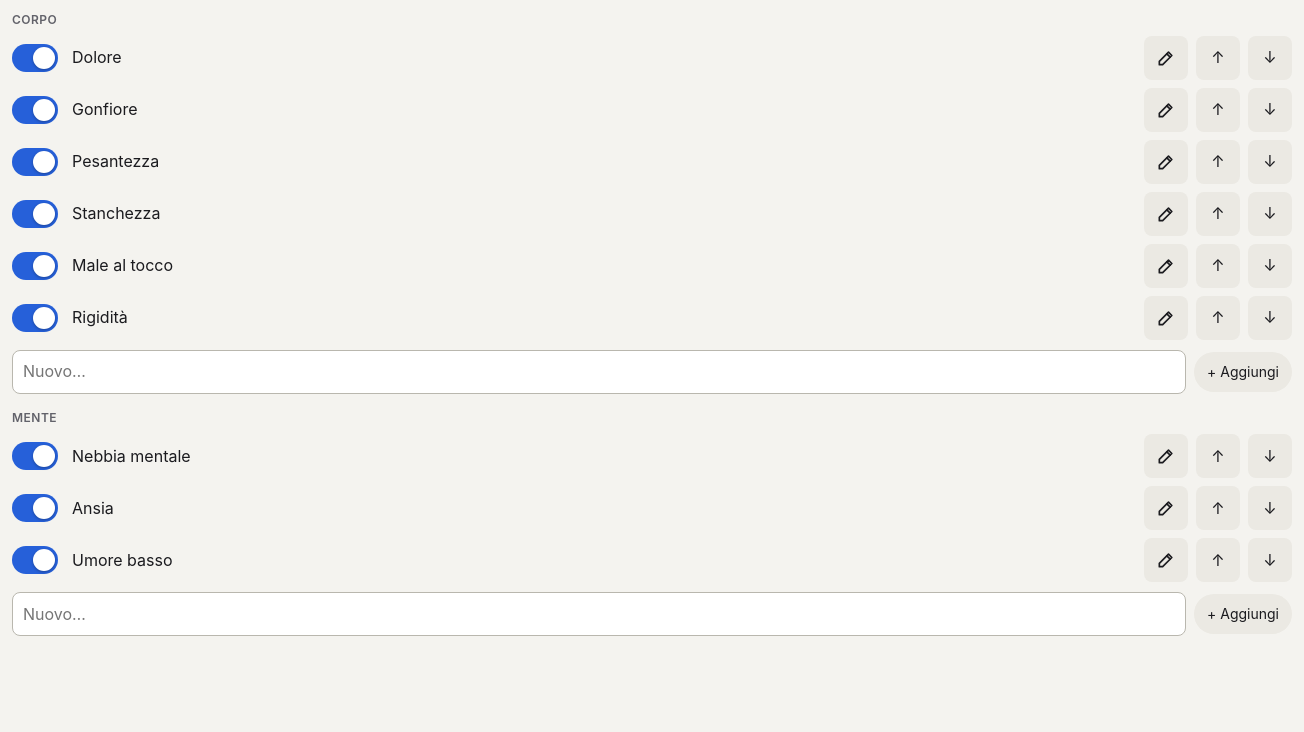
Vocabulary editor: symptoms › a ✎ button renames, as a tap on the name does; the name keeps its own button name (#115)
Click the button named "Rinomina Gonfiore" at [1166, 110], box [1144,88,1188,132]
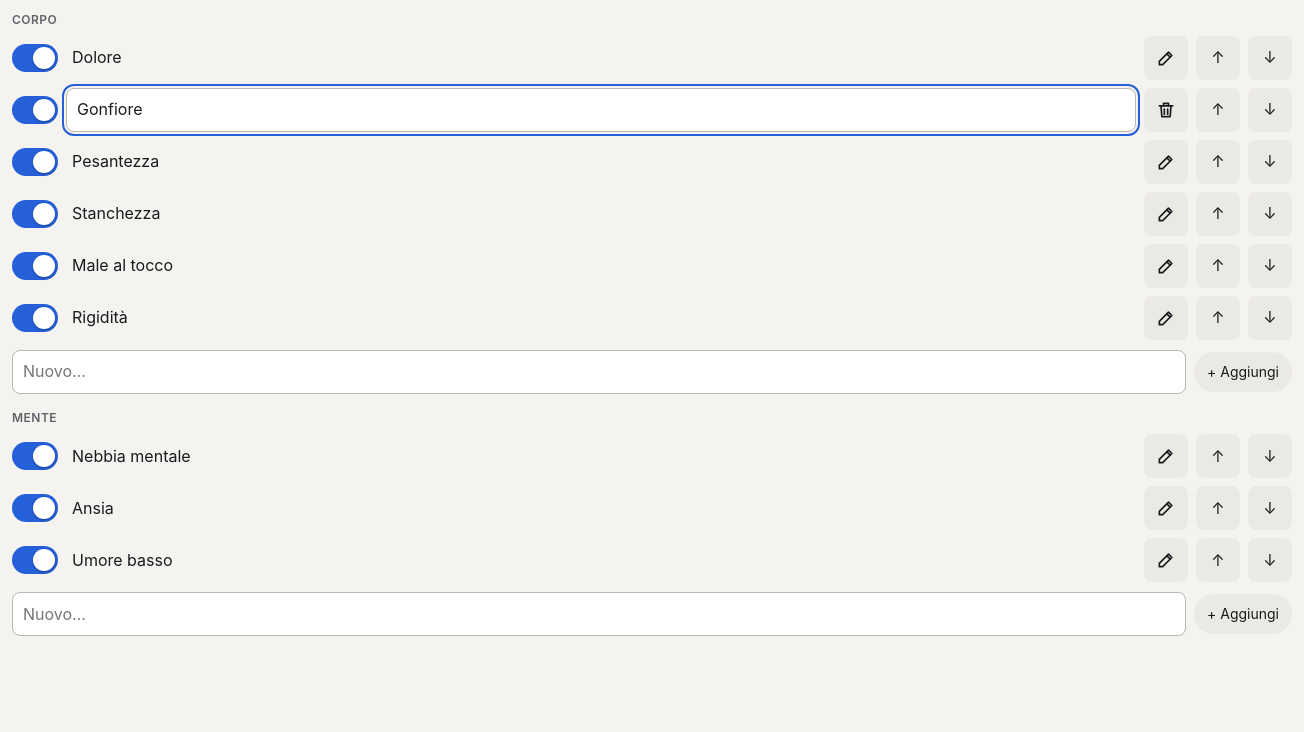
Check: the button with class "name" reads "Dolore", box [66,45,1136,71]
Check: the field showing "Gonfiore" is shown, box [66,88,1136,132]
